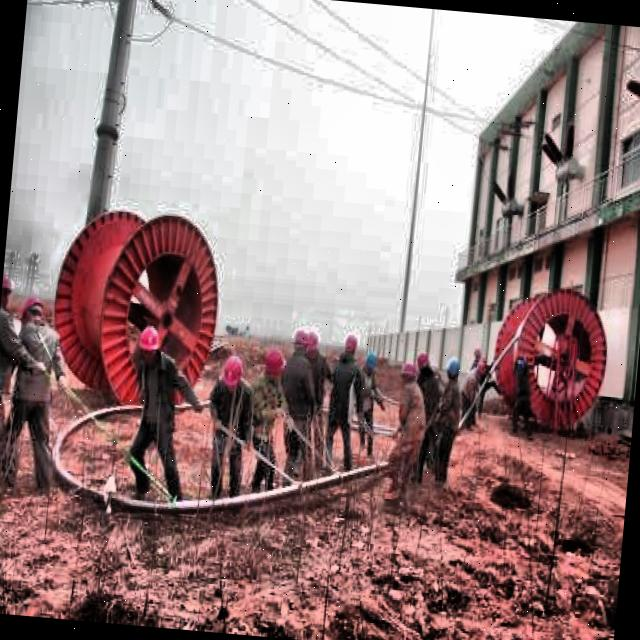helmet: (216, 348, 250, 392), (136, 320, 166, 366), (17, 291, 47, 334), (257, 342, 287, 380), (1, 266, 18, 318), (337, 331, 362, 366), (362, 344, 383, 376), (398, 357, 419, 388), (444, 354, 464, 384), (414, 348, 432, 374)
